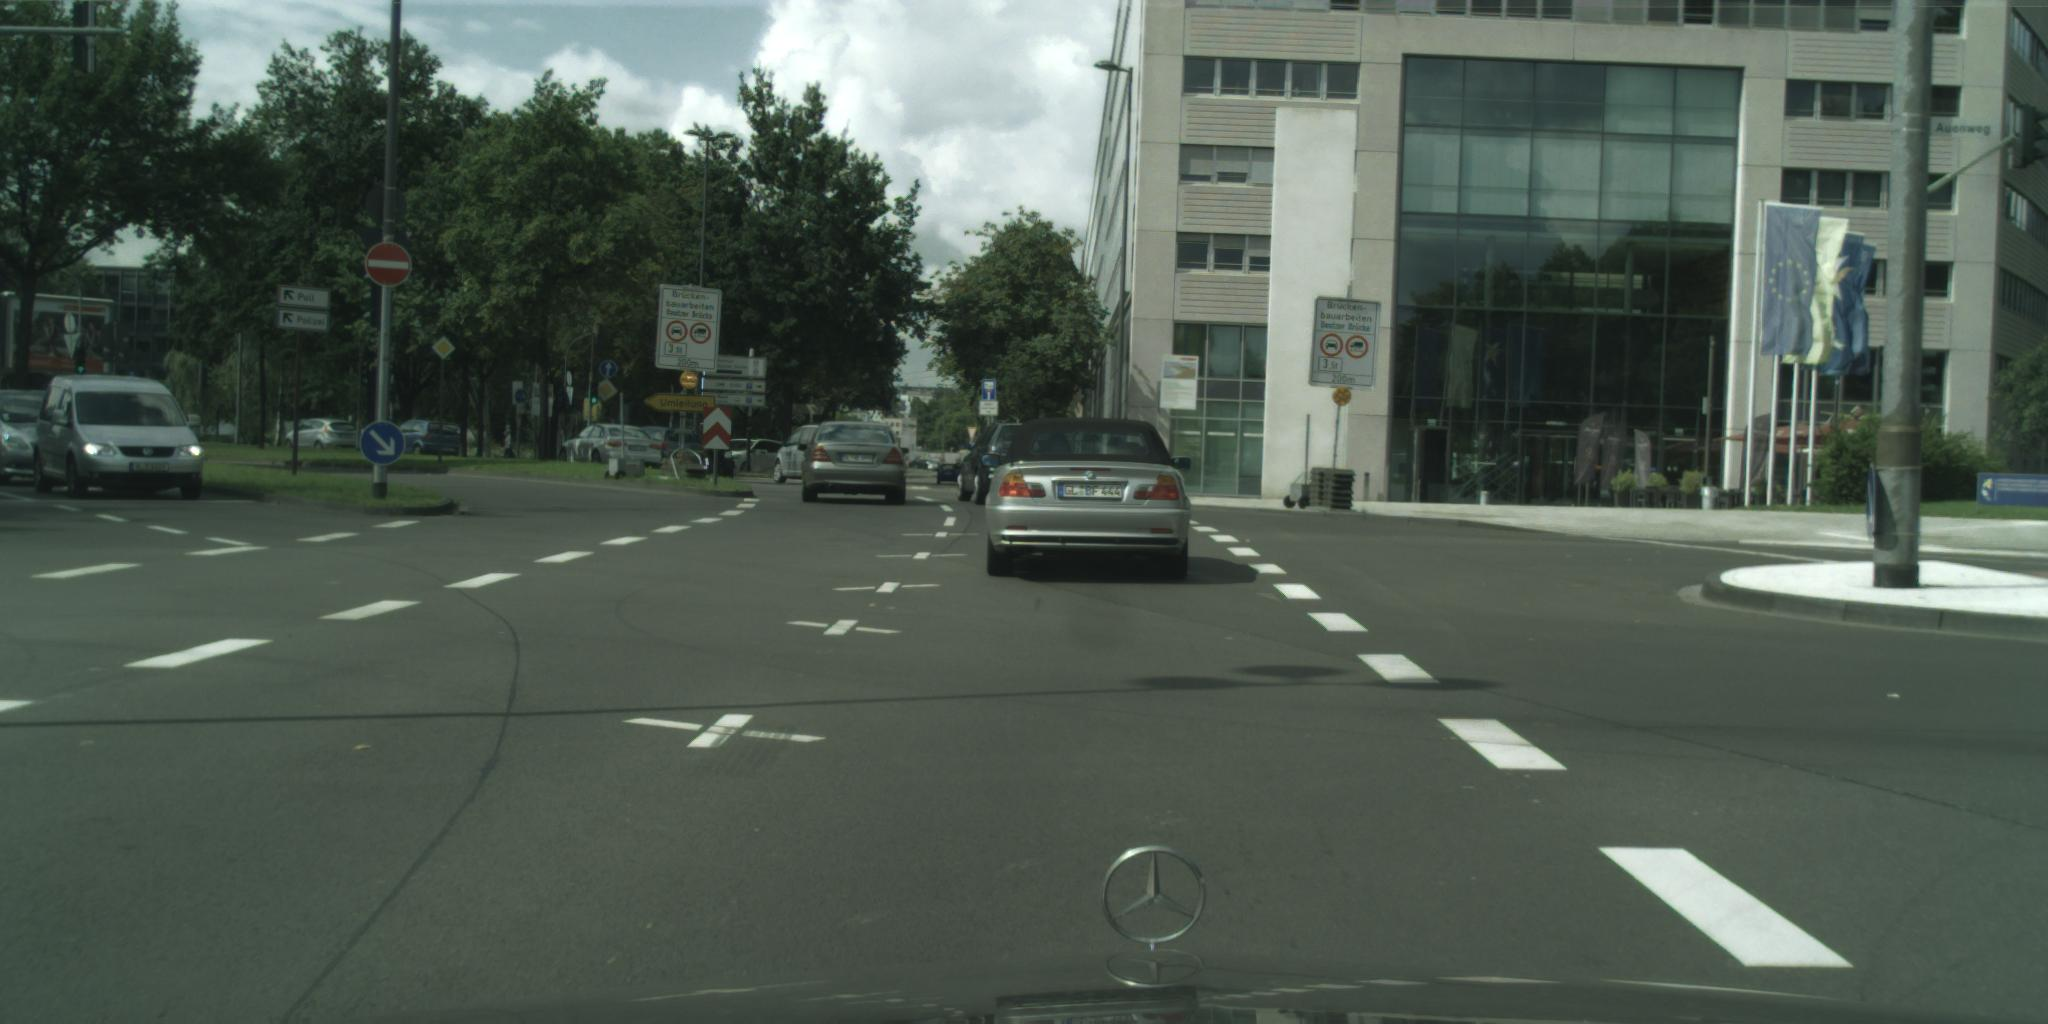car: (980, 415, 1196, 585), (31, 374, 205, 502), (797, 421, 912, 509), (957, 424, 1027, 505), (556, 423, 666, 470), (1, 391, 44, 490), (705, 436, 789, 479), (775, 422, 823, 486), (643, 427, 725, 462), (282, 419, 367, 452), (397, 421, 464, 460), (936, 440, 967, 488)
